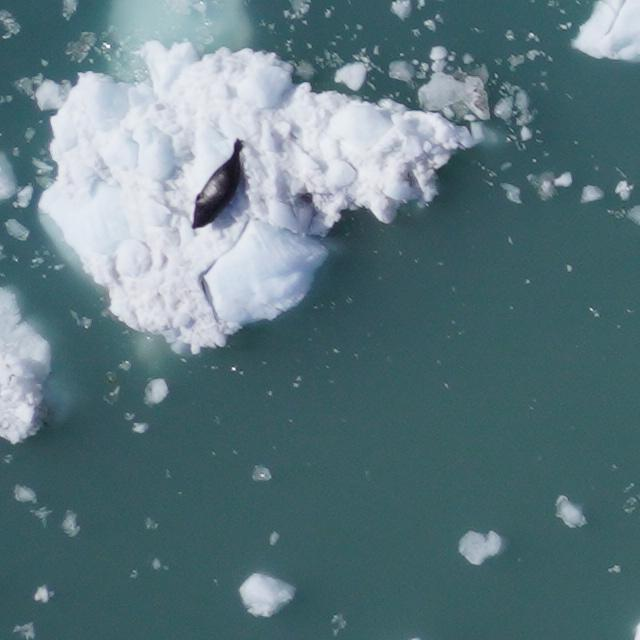seal: (186, 130, 255, 239)
